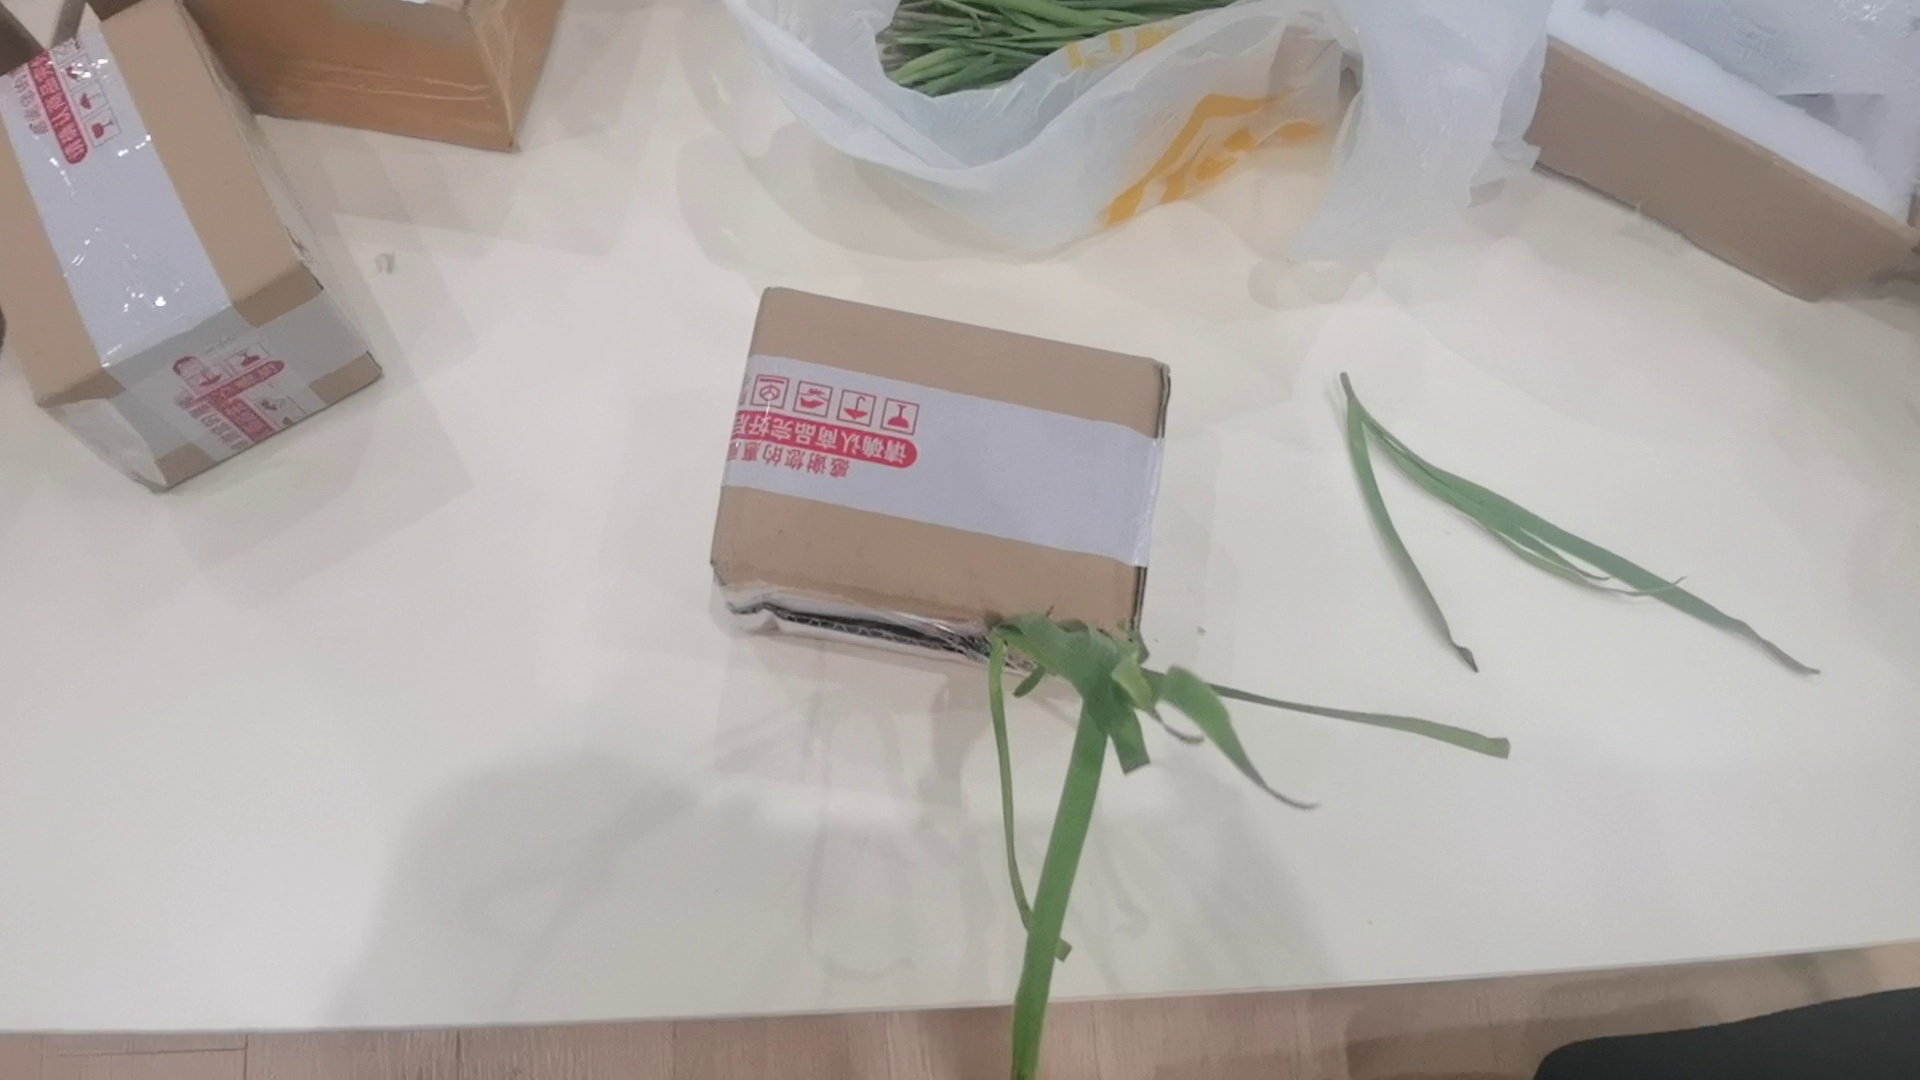chives: (930, 592, 1592, 1080), (1320, 353, 1840, 680)
